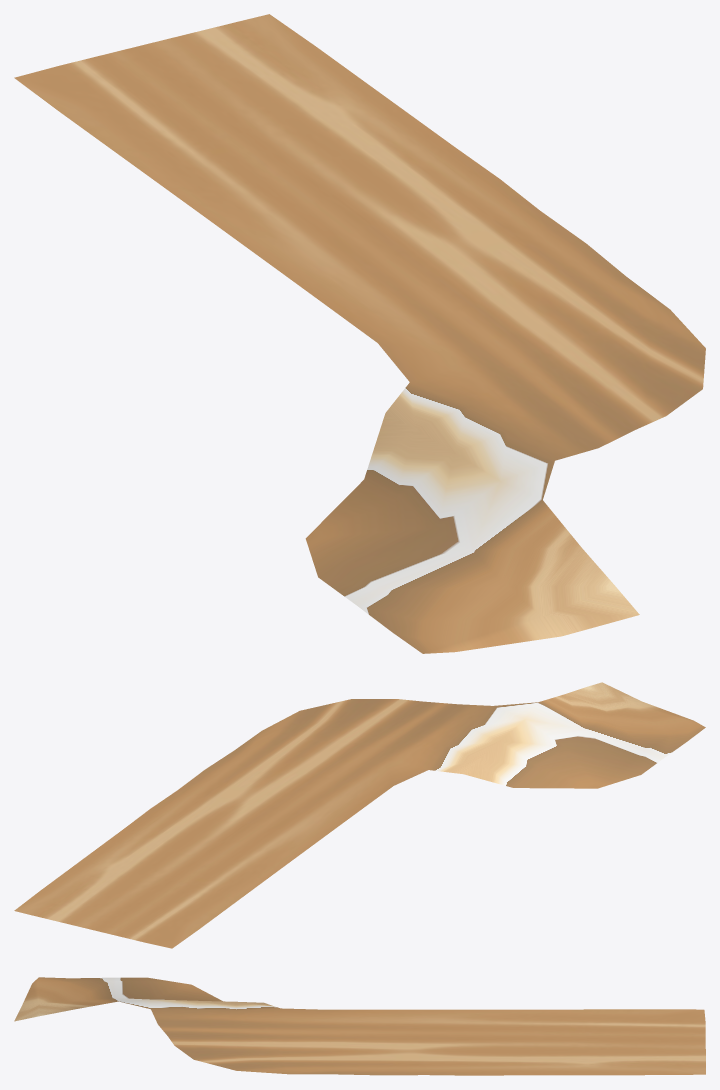
File: Fountain_new cloth.fbx
3 views of the same model, one above another, from view 1: azimuth 30°, elevation 25°; view 2: azimuth 150°, elevation 25°; view 3: azimuth 270°, elevation 25° (orthographic). The views are drawn at different scales.
Parts seen in each view (by area): view 1: polySurface2; view 2: polySurface2; view 3: polySurface2.
Boxes of the visible parts, box(x1,y1,x2,y2) form: polySurface2: box(14, 14, 705, 653); polySurface2: box(14, 682, 705, 948); polySurface2: box(14, 977, 705, 1075).
Bounding box in the file's own units: 110 × 12.17 × 257.
